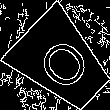O_SE: (29, 29, 95, 96)
